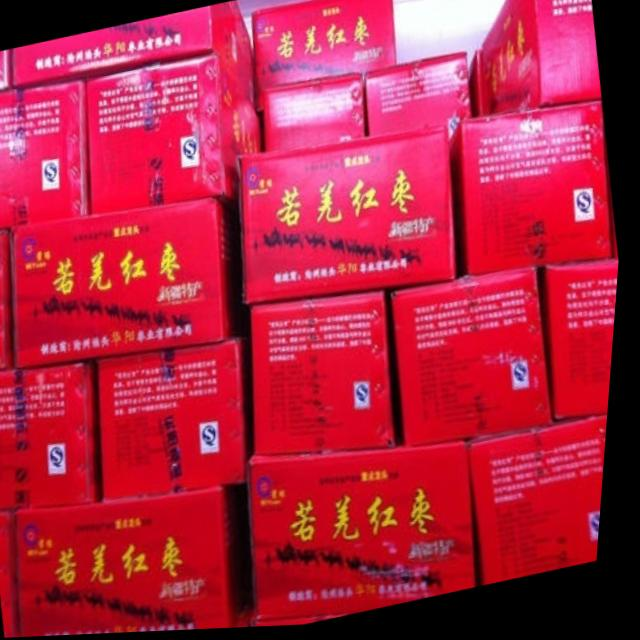box: (256, 446, 485, 624), (238, 129, 460, 307), (14, 200, 238, 368), (24, 487, 247, 638), (394, 272, 558, 452), (451, 105, 618, 281), (86, 57, 265, 216), (11, 2, 254, 104), (255, 293, 401, 459), (103, 342, 252, 502), (474, 421, 614, 590), (252, 0, 399, 114), (0, 361, 104, 509), (481, 0, 603, 122), (0, 79, 91, 226), (547, 263, 623, 426), (366, 55, 473, 140), (266, 75, 368, 153), (0, 229, 20, 370)
